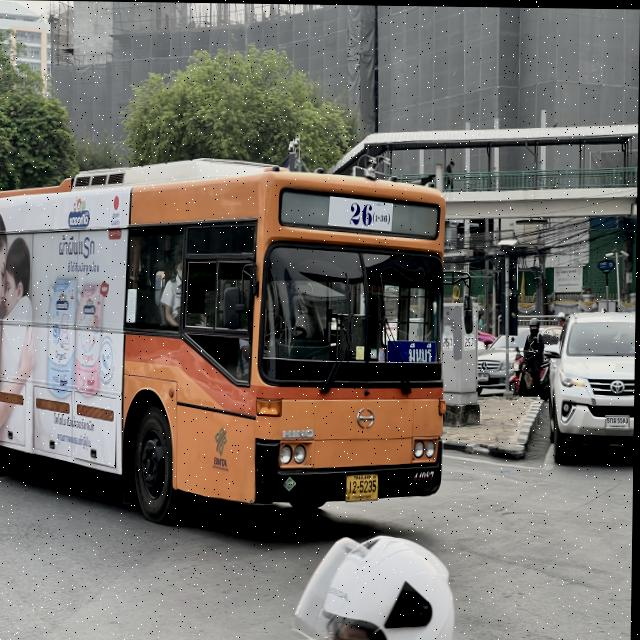BMTA-bus: (0, 153, 452, 532)
Bus-Line-Number: (330, 194, 394, 232)
Destination-Sign-Normal: (387, 338, 437, 361)
